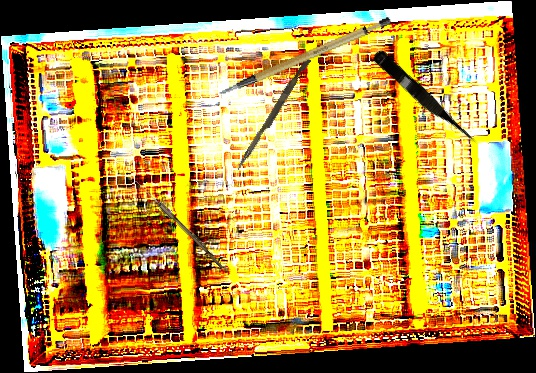Micro Scissor: (368, 47, 482, 152)
Pusher: (235, 56, 312, 173)
Scalpel Handle: (209, 14, 399, 97)
Surgical Spoon: (133, 179, 226, 269)
